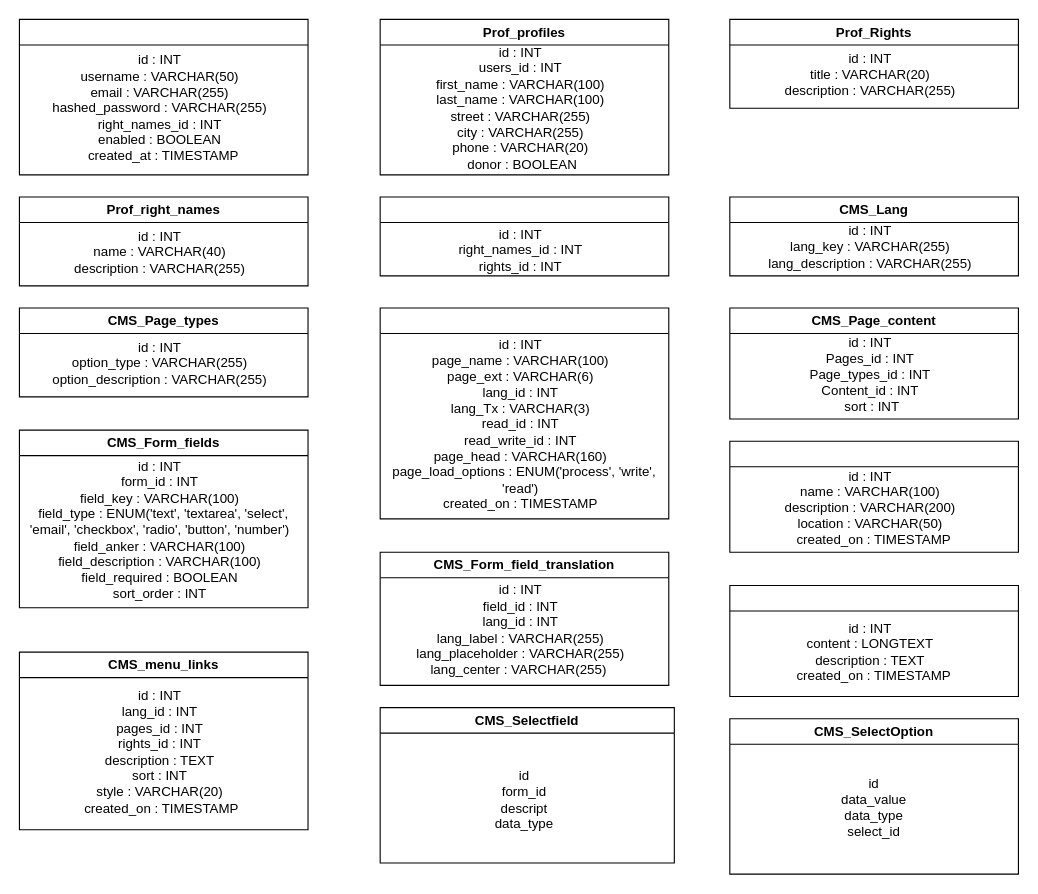
The diagram is 1038 pixels wide and 894 high, and some of its shapes have lost their labels. Here are the shapes that lost their labels. From the top down, the box of each, then its label:
(18, 18, 308, 175): Prof_Users
(379, 196, 669, 276): Prof_right_profiles
(379, 307, 669, 519): CMS_Pages
(729, 440, 1018, 552): CMS_Forms
(729, 584, 1018, 697): CMS_content_raw
